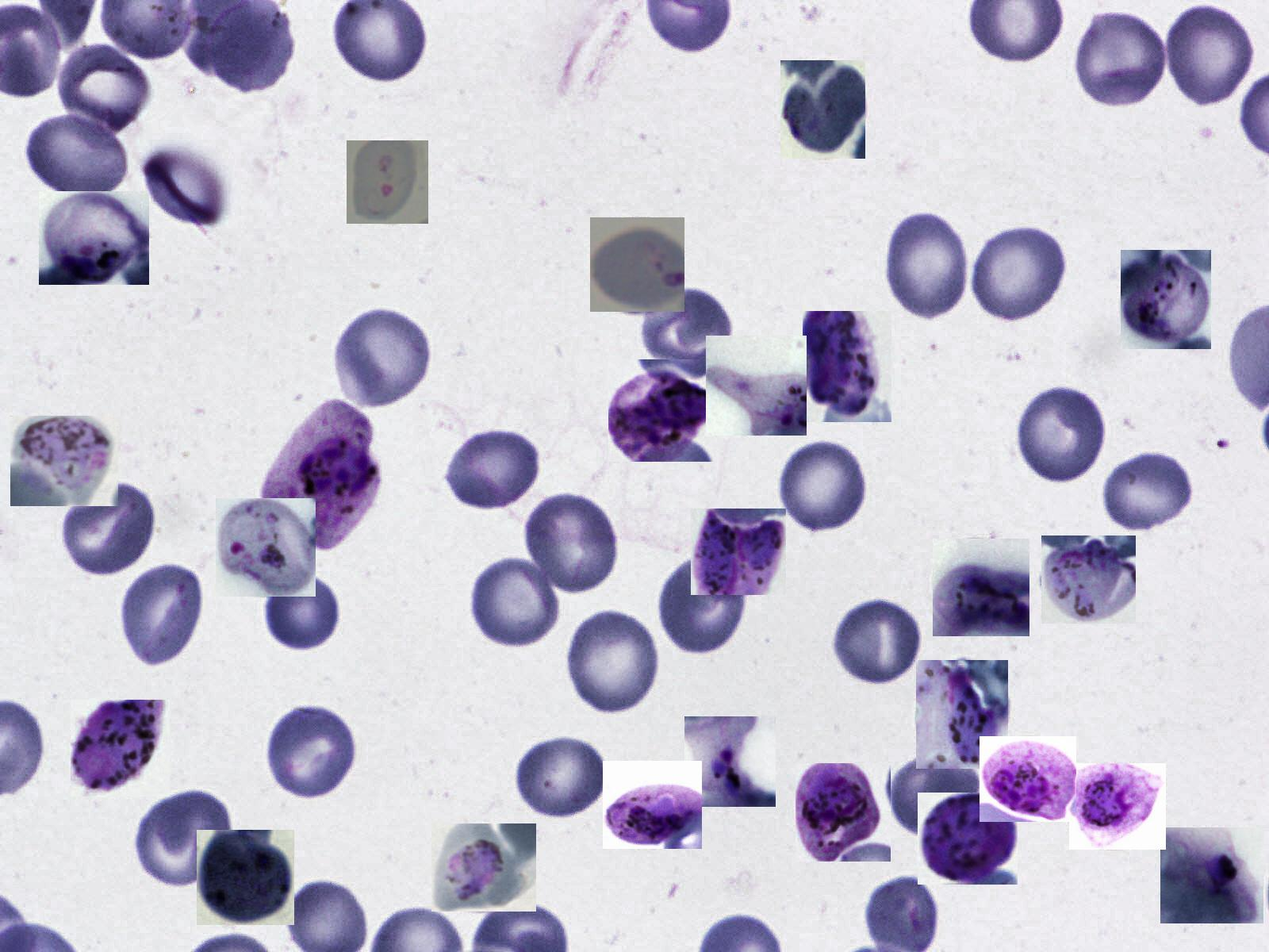Infected: (259, 402, 378, 553), (608, 359, 715, 462), (39, 191, 149, 285), (706, 336, 807, 436), (916, 660, 1008, 769), (216, 498, 316, 597), (1160, 827, 1263, 923), (803, 311, 891, 422), (10, 416, 118, 506), (71, 700, 170, 797), (796, 763, 891, 862), (431, 823, 536, 912), (933, 539, 1029, 636), (197, 830, 294, 925), (918, 793, 1018, 885), (590, 217, 684, 312), (1121, 250, 1211, 349), (603, 761, 702, 849), (1069, 763, 1166, 850), (780, 60, 865, 159), (684, 716, 776, 807), (1041, 536, 1136, 624), (980, 736, 1076, 822), (691, 509, 786, 595), (347, 140, 428, 224)
Uninfected: (877, 209, 973, 325), (329, 304, 435, 409), (134, 785, 236, 889), (1163, 3, 1258, 112), (971, 224, 1072, 323), (1016, 382, 1113, 484), (653, 552, 747, 657), (564, 609, 656, 716), (62, 478, 159, 578), (1073, 10, 1167, 112), (892, 747, 988, 845), (21, 112, 129, 199), (775, 437, 869, 536), (266, 700, 359, 799), (523, 494, 618, 590), (440, 428, 544, 513), (57, 35, 148, 131), (831, 593, 926, 684), (115, 562, 201, 662), (1098, 448, 1195, 535), (468, 558, 558, 647), (138, 140, 229, 228), (642, 285, 734, 370), (510, 739, 606, 820), (264, 572, 343, 652)
